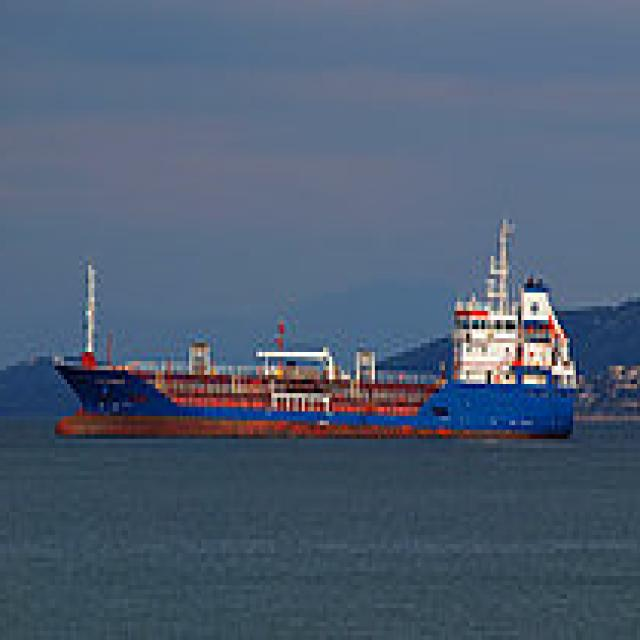Tanker: (52, 201, 582, 439)
